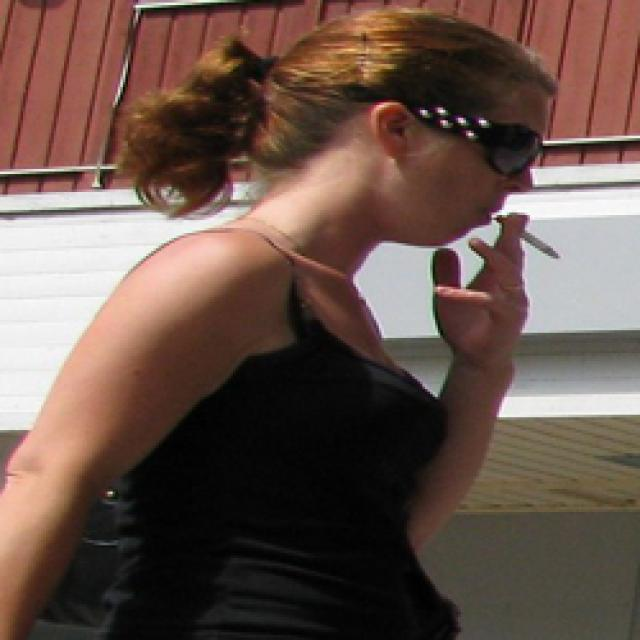Smooking: (491, 212, 560, 261)
